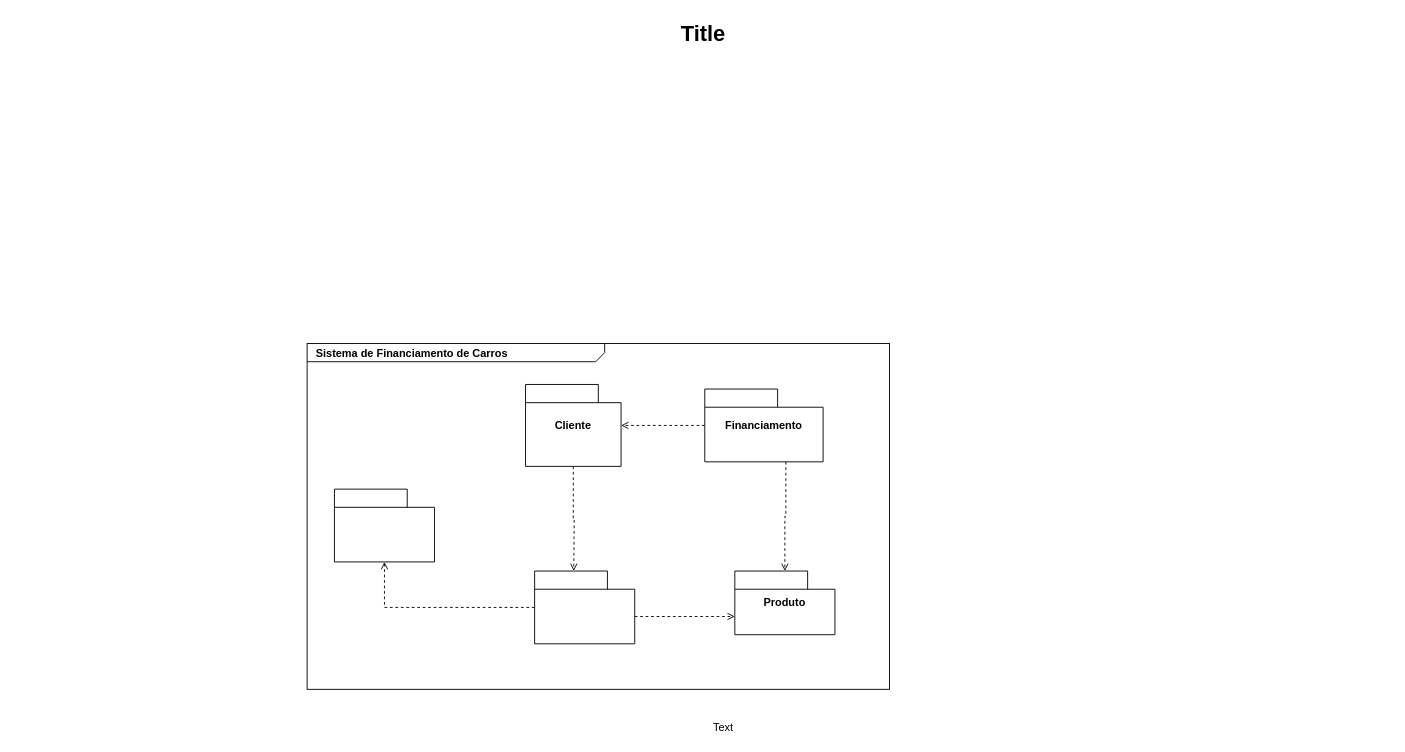
The diagram is 1405 pixels wide and 752 high, and some of its shapes have lost their labels. The centre of each missing label's shape, as x and y in pixels:
"Pedido" goes at pixel 384 525.
"Vendedor" goes at pixel 584 607.
